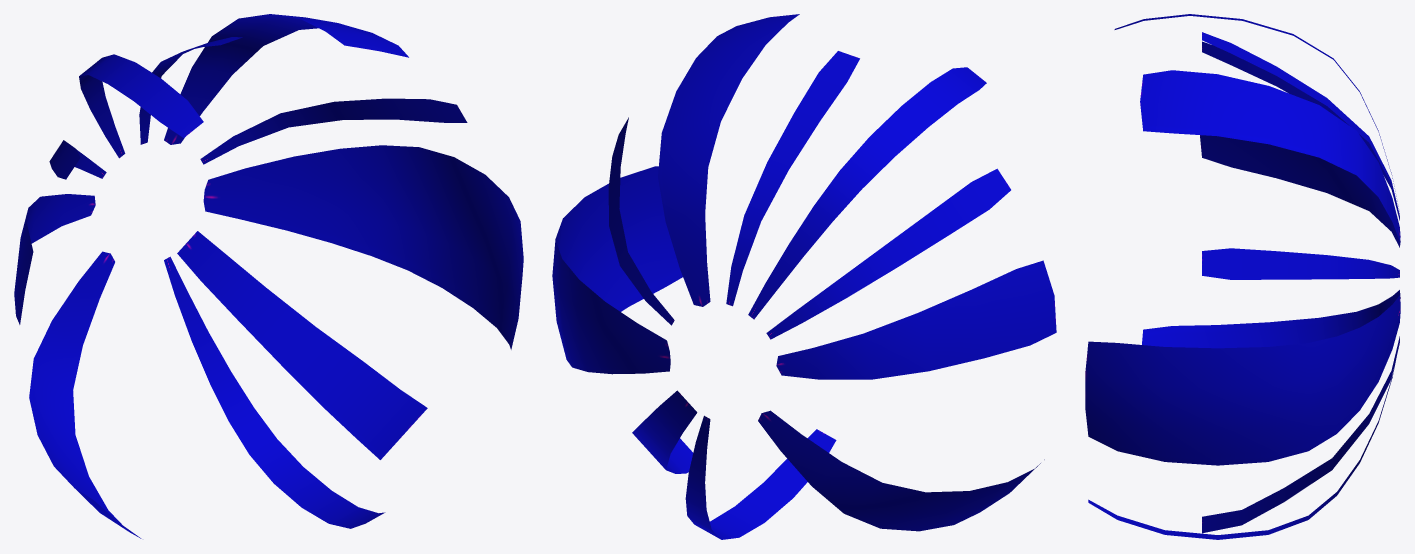
File: p_totebot_yellow_velocitystripes.fbx
3 renders of one model, left to right at view 1: azimuth 30°, elevation 25°; view 2: azimuth 150°, elevation 25°; view 3: azimuth 270°, elevation 25°, orthographic. The views are drawn at different scales.
Parts seen in each view (by area): view 1: Sphere; view 2: Sphere; view 3: Sphere.
Part boxes in pixels (x1=…): Sphere: x1=14, y1=14, x2=523, y2=538; Sphere: x1=552, y1=14, x2=1056, y2=539; Sphere: x1=1085, y1=14, x2=1400, y2=539.
Bounding box in the file's own units: 7.08 × 7 × 4.3.
